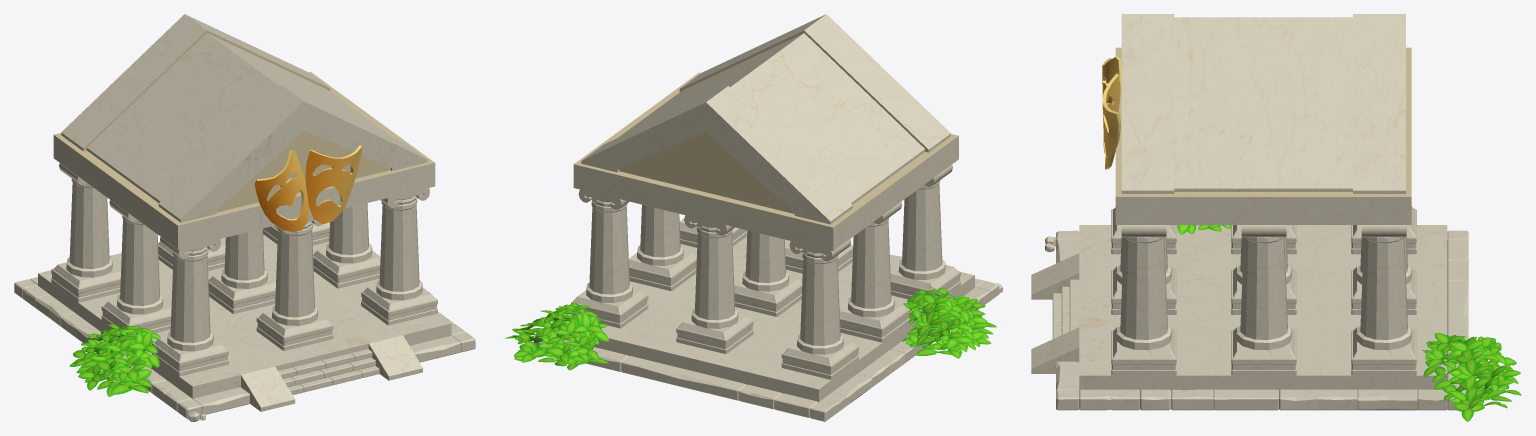
The model's file is Culture_lvl1.fbx.
3 views of the same model, side by side, from view 1: azimuth 30°, elevation 25°; view 2: azimuth 150°, elevation 25°; view 3: azimuth 270°, elevation 25° (orthographic). The views are drawn at different scales.
Visible parts, largest first — view 1: Culture_Lvl1; view 2: Culture_Lvl1; view 3: Culture_Lvl1.
Part boxes in pixels (x1,y1,x2,y2): Culture_Lvl1: (14,14,475,421); Culture_Lvl1: (505,14,1002,421); Culture_Lvl1: (1031,14,1521,421).
Bounding box in the file's own units: 1133 × 784 × 1112.
2 materials, 2 textured.
